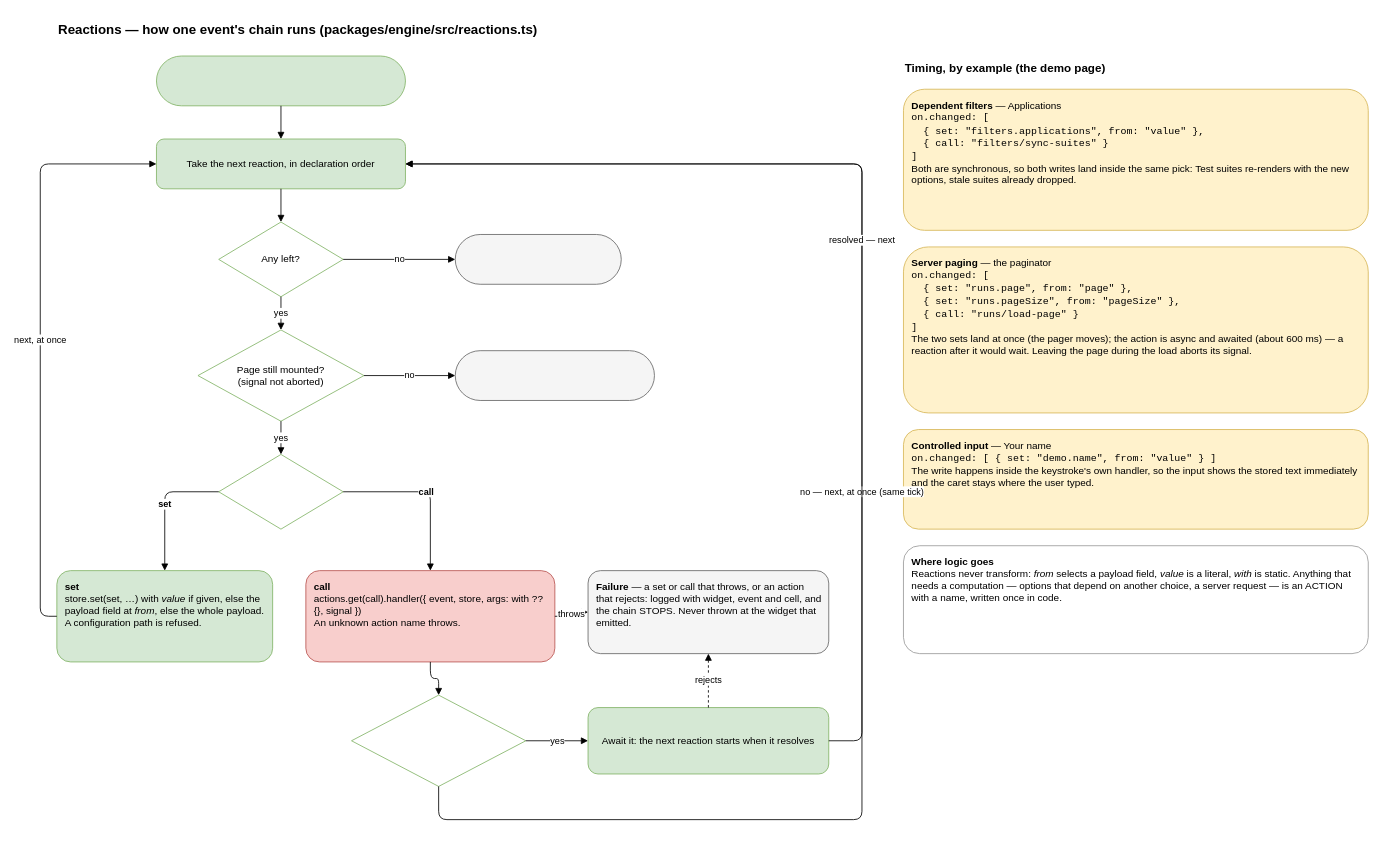
Some shapes in this 1383 by 841 pixel diagram are drawn without their labels. The centre of each missing label's shape, as x and y in pixels:
An event arrives for its (page, cell, name): pixel 280 80
Chain done: pixel 537 259
Returned a Promise?: pixel 438 740
Stop — the page went away; the rest of the chain never starts: pixel 554 375
Verb?: pixel 280 491
